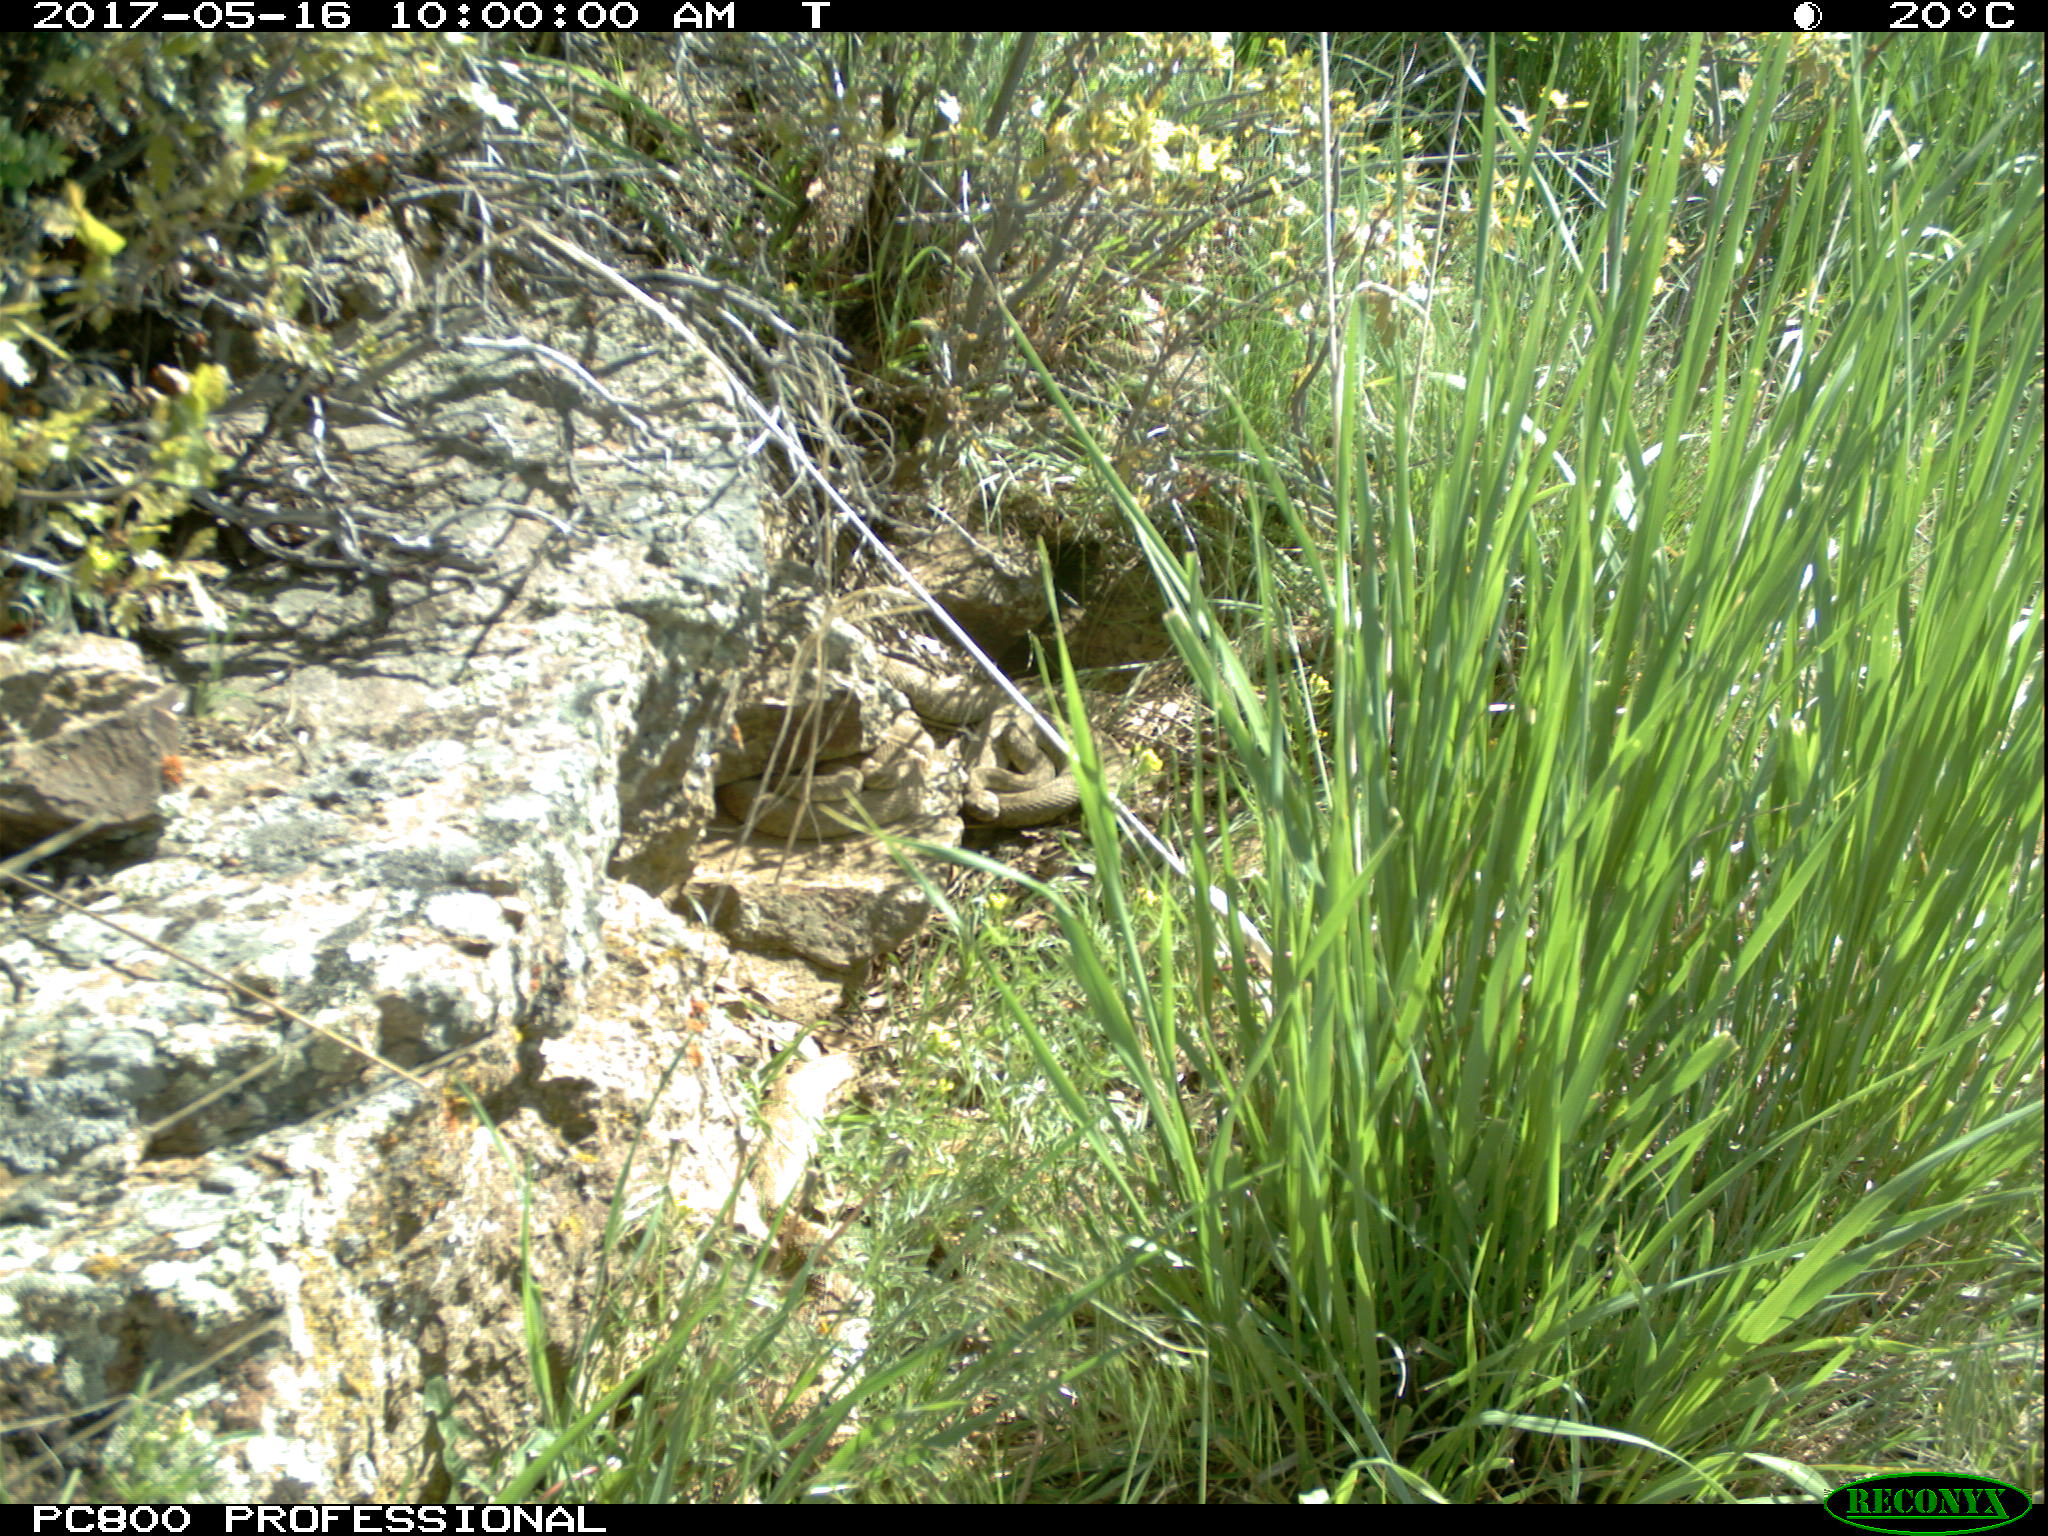snake: (748, 1037, 861, 1412), (961, 700, 1118, 829), (718, 765, 918, 844), (868, 660, 1005, 737)
